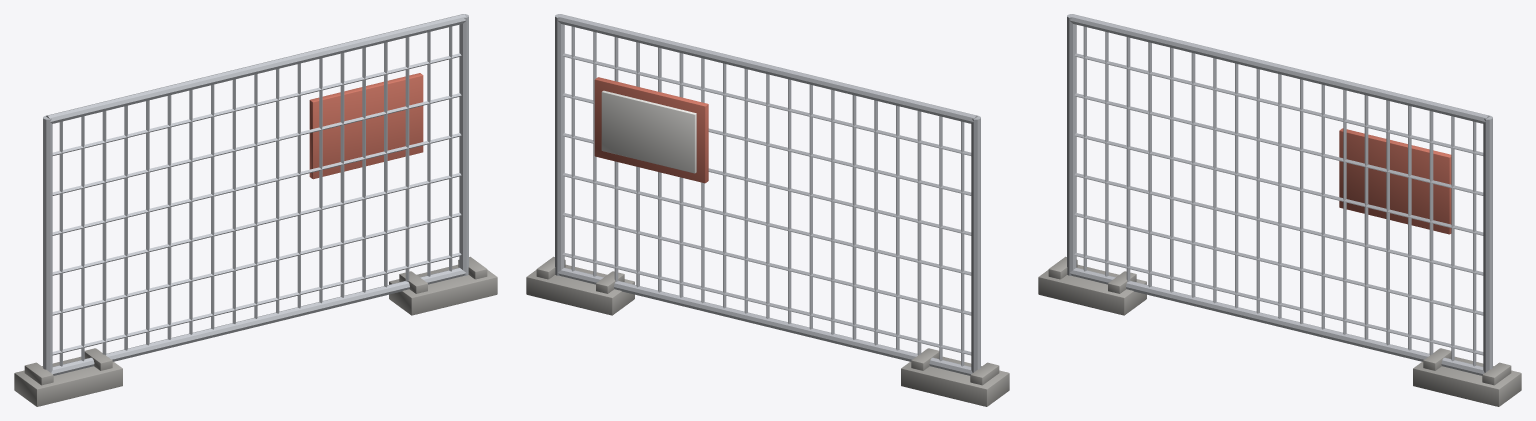
Rendered from th46_bauzaun.glb.
The picture shows the model from 3 angles, left to right: view 1: azimuth 30°, elevation 25°; view 2: azimuth 150°, elevation 25°; view 3: azimuth 330°, elevation 25°; orthographic projection.
Parts seen in each view (by area): view 1: Cube.006, Cylinder.003, Cylinder.002, Cube, Cube.003, Cylinder, Cylinder.001, Cylinder.025, Cylinder.026, Cylinder.027, Cylinder.024, Cylinder.023 (+21 smaller); view 2: Cube.007, Cylinder.003, Cylinder.002, Cube.006, Cube, Cube.003, Cylinder, Cylinder.001, Cylinder.025, Cylinder.024, Cylinder.023, Cylinder.028 (+22 smaller); view 3: Cube.006, Cylinder.003, Cylinder.002, Cube.003, Cube, Cylinder.001, Cylinder, Cylinder.025, Cylinder.026, Cylinder.027, Cylinder.024, Cylinder.023 (+21 smaller).
Part boxes in pixels (left/top/right/bottom): Cube.006: left=309, top=73, right=423, bottom=179; Cylinder.003: left=46, top=14, right=466, bottom=123; Cylinder.002: left=51, top=267, right=466, bottom=375; Cube: left=14, top=356, right=122, bottom=406; Cube.003: left=389, top=264, right=497, bottom=315; Cylinder: left=43, top=115, right=52, bottom=372; Cylinder.001: left=459, top=14, right=468, bottom=275; Cylinder.025: left=52, top=173, right=461, bottom=275; Cylinder.026: left=52, top=133, right=461, bottom=235; Cylinder.027: left=52, top=93, right=461, bottom=195; Cylinder.024: left=52, top=212, right=461, bottom=315; Cylinder.023: left=52, top=252, right=461, bottom=355; Cube.007: left=601, top=90, right=696, bottom=173; Cylinder.003: left=557, top=14, right=977, bottom=123; Cylinder.002: left=557, top=267, right=972, bottom=375; Cube.006: left=594, top=77, right=708, bottom=183; Cube: left=901, top=356, right=1009, bottom=406; Cube.003: left=526, top=264, right=634, bottom=315; Cylinder: left=971, top=115, right=980, bottom=372; Cylinder.001: left=555, top=14, right=564, bottom=275; Cylinder.025: left=562, top=173, right=971, bottom=275; Cylinder.024: left=562, top=212, right=971, bottom=315; Cylinder.023: left=562, top=252, right=971, bottom=355; Cylinder.028: left=562, top=53, right=971, bottom=155; Cube.006: left=1339, top=128, right=1451, bottom=234; Cylinder.003: left=1069, top=14, right=1489, bottom=123; Cylinder.002: left=1069, top=267, right=1484, bottom=375; Cube.003: left=1413, top=356, right=1521, bottom=406; Cube: left=1038, top=264, right=1146, bottom=315; Cylinder.001: left=1483, top=115, right=1492, bottom=372; Cylinder: left=1067, top=14, right=1076, bottom=275; Cylinder.025: left=1074, top=173, right=1483, bottom=275; Cylinder.026: left=1074, top=133, right=1483, bottom=235; Cylinder.027: left=1074, top=93, right=1483, bottom=195; Cylinder.024: left=1074, top=212, right=1483, bottom=315; Cylinder.023: left=1074, top=252, right=1483, bottom=355.
Size of the model in its own units: 3.74 by 2.15 by 0.32.
